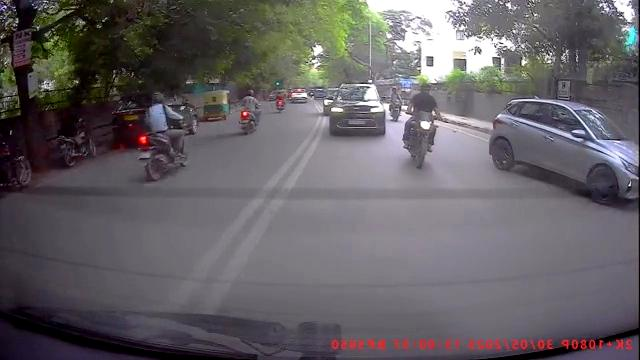motorcycle_with_helmet: (137, 89, 191, 184)
motorcycle_without_helmet: (401, 83, 439, 171)
